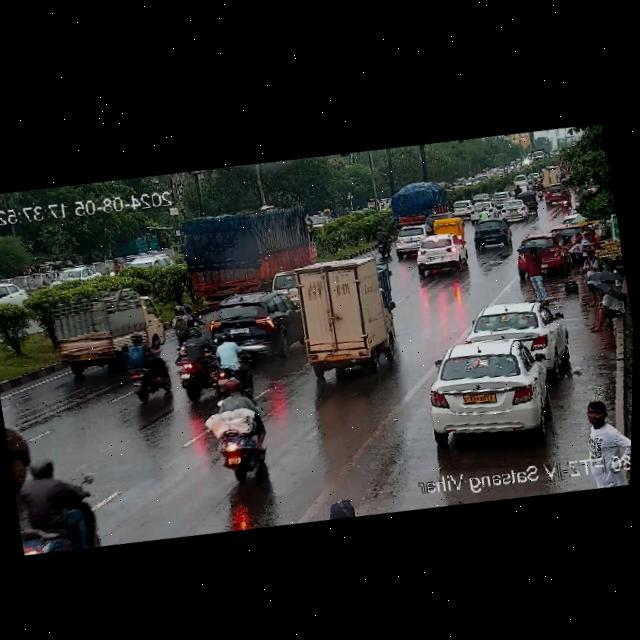car: (412, 328, 557, 451), (465, 292, 570, 373), (206, 286, 298, 360), (506, 227, 571, 282), (411, 240, 472, 280), (387, 221, 433, 260), (45, 260, 99, 292), (468, 216, 512, 253), (0, 274, 31, 318), (429, 214, 464, 248), (495, 199, 529, 224), (572, 228, 584, 244)
motorcycle: (6, 436, 105, 559), (192, 378, 274, 495), (171, 321, 260, 407), (117, 331, 178, 409), (169, 300, 210, 344)
person: (573, 387, 632, 486), (575, 245, 607, 310), (524, 244, 553, 300)
truck: (166, 195, 321, 322), (283, 244, 405, 388), (30, 276, 170, 387), (386, 178, 446, 227)
